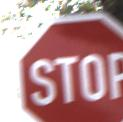Stop sign: (0, 0, 122, 121)
